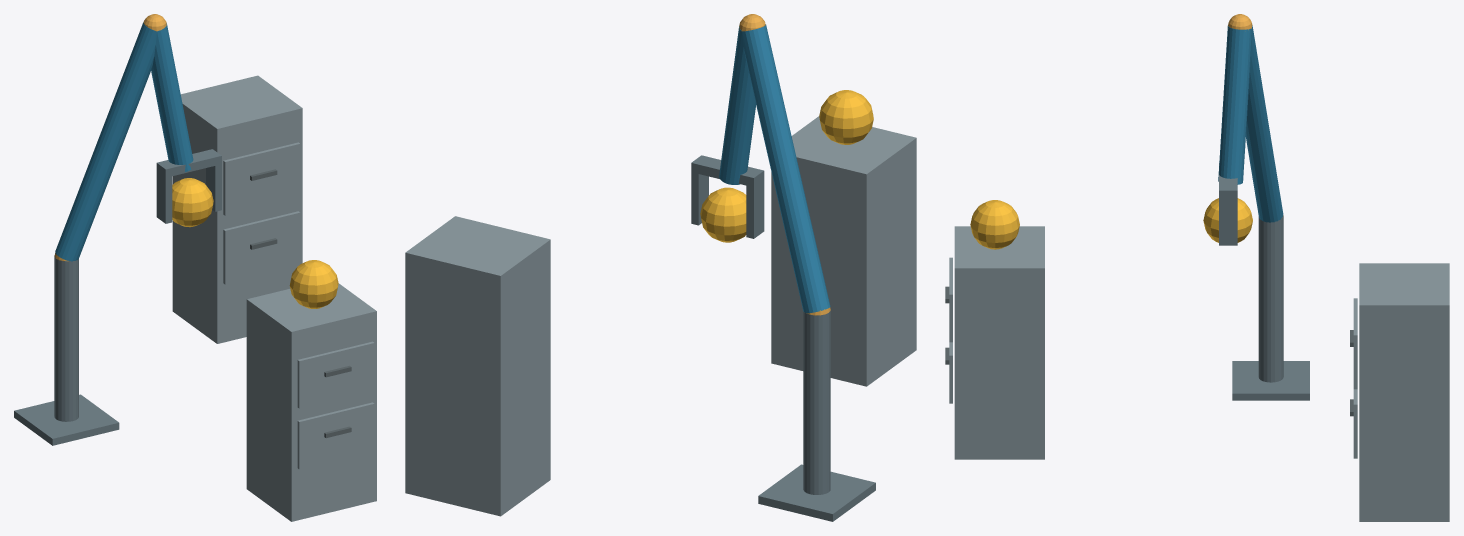
3 views of the same model, side by side, from view 1: azimuth 30°, elevation 25°; view 2: azimuth 150°, elevation 25°; view 3: azimuth 270°, elevation 25° (orthographic). The views are drawn at different scales.
Visible parts, largest first — view 1: cabinet_1 body, cabinet_2 body, moving link 1, cabinet_2 drawer front.001, cabinet_2 drawer front, fixed post, cabinet_1 drawer front.001, cabinet_1 drawer front, moving link 2, pedestal, released ball_1, ball ball_2 (+3 smaller); view 2: cabinet_2 body, cabinet_1 body, moving link 1, fixed post, pedestal, moving link 2, released ball_1, ball ball_2, gripper finger -1, gripper bridge, gripper finger 1; view 3: cabinet_2 body, cabinet_1 body, fixed post, moving link 2, moving link 1, pedestal, released ball_1, ball ball_2, gripper finger 1.
Part boxes in pixels (left/top/right/bottom): cabinet_1 body: left=246, top=283, right=376, bottom=521; cabinet_2 body: left=172, top=75, right=302, bottom=343; moving link 1: left=55, top=22, right=156, bottom=261; cabinet_2 drawer front.001: left=223, top=142, right=300, bottom=215; cabinet_2 drawer front: left=223, top=211, right=300, bottom=284; fixed post: left=54, top=255, right=78, bottom=421; cabinet_1 drawer front.001: left=297, top=341, right=374, bottom=408; cabinet_1 drawer front: left=297, top=402, right=374, bottom=469; moving link 2: left=151, top=23, right=193, bottom=171; pedestal: left=14, top=394, right=119, bottom=445; released ball_1: left=289, top=260, right=338, bottom=308; ball ball_2: left=172, top=178, right=213, bottom=227; cabinet_2 body: left=405, top=216, right=550, bottom=516; cabinet_1 body: left=771, top=116, right=916, bottom=386; moving link 1: left=742, top=24, right=830, bottom=313; fixed post: left=803, top=311, right=830, bottom=494; pedestal: left=758, top=464, right=875, bottom=521; moving link 2: left=719, top=26, right=755, bottom=184; released ball_1: left=819, top=90, right=873, bottom=144; ball ball_2: left=700, top=187, right=746, bottom=242; gripper finger -1: left=746, top=180, right=764, bottom=238; gripper bridge: left=691, top=155, right=764, bottom=187; gripper finger 1: left=691, top=172, right=708, bottom=225; cabinet_2 body: left=1359, top=263, right=1449, bottom=521; cabinet_1 body: left=954, top=226, right=1044, bottom=459; fixed post: left=1258, top=216, right=1283, bottom=382; moving link 2: left=1218, top=26, right=1251, bottom=184; moving link 1: left=1246, top=25, right=1283, bottom=222; pedestal: left=1232, top=361, right=1309, bottom=400; released ball_1: left=970, top=200, right=1019, bottom=249; ball ball_2: left=1203, top=198, right=1252, bottom=242; gripper finger 1: left=1219, top=199, right=1237, bottom=245.
Size of the model in its own units: 1.17 by 1.44 by 1.62.
